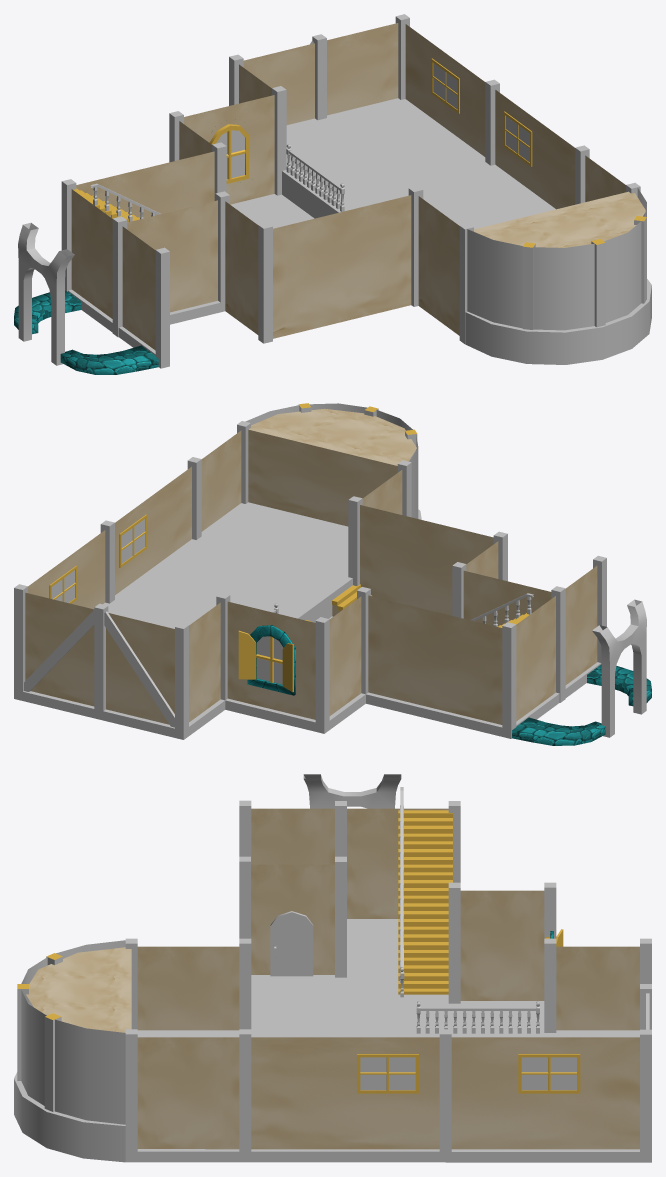
File: first_floor.fbx
3 renders of one model, top to bottom at view 1: azimuth 30°, elevation 25°; view 2: azimuth 150°, elevation 25°; view 3: azimuth 270°, elevation 25°, orthographic. The views are drawn at different scales.
Visible parts, largest first — view 1: first_wall (×16), first_ground, wood_struct_01 (×16), rock_01 (×2), window_01, window_004, window_02, stair_01; view 2: first_wall (×18), wood_struct_01 (×21), first_ground, rock_01 (×2), window_004, window_02, stair_01; view 3: first_wall (×10), wood_struct_01 (×17), first_ground, stair_01, door, window_02, window_004.
Boxes of the visible parts, x1,y1,x2,y2 form: first_wall (×16): (71, 23, 651, 364); first_ground: (230, 98, 555, 229); wood_struct_01 (×16): (18, 14, 589, 368); rock_01 (×2): (14, 290, 158, 374); window_01: (209, 124, 249, 183); window_004: (503, 111, 532, 166); window_02: (431, 58, 459, 113); stair_01: (73, 183, 160, 222); first_wall (×18): (24, 403, 597, 727); wood_struct_01 (×21): (14, 421, 646, 739); first_ground: (103, 502, 352, 628); rock_01 (×2): (512, 664, 651, 745); window_004: (119, 514, 146, 567); window_02: (49, 565, 77, 603); stair_01: (471, 593, 533, 627); first_wall (×10): (14, 808, 639, 1162); wood_struct_01 (×17): (125, 774, 651, 1162); first_ground: (137, 919, 639, 1037); stair_01: (398, 787, 452, 997); door: (270, 911, 313, 976); window_02: (518, 1054, 580, 1093); window_004: (357, 1054, 418, 1093).
Bounding box in the file's own units: 794 × 784 × 199.
